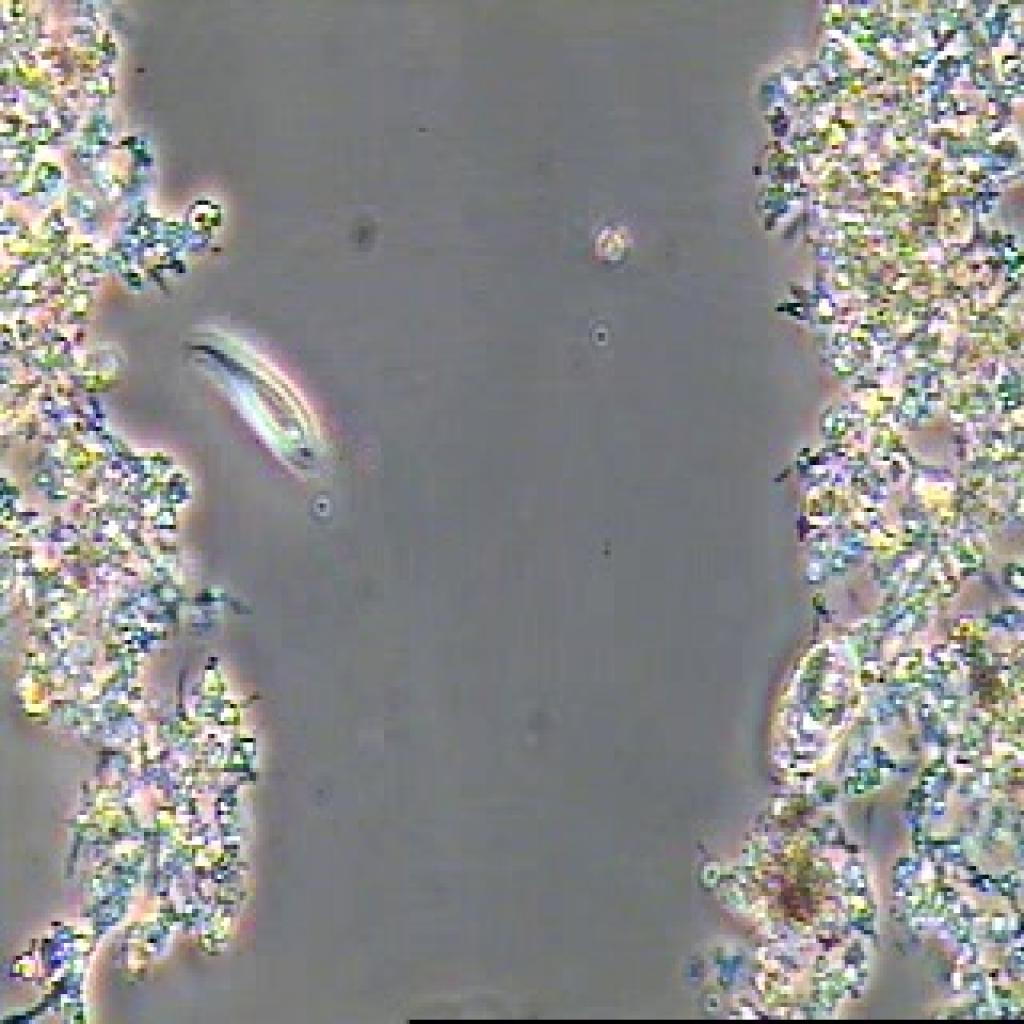Pristina: (162, 318, 328, 493)
